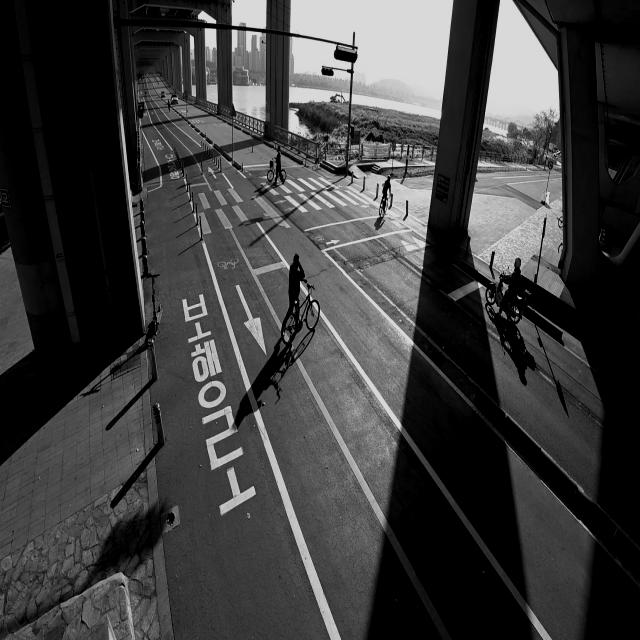Car: (171, 90, 179, 108), (157, 87, 166, 98)
Motorcycle: (486, 253, 534, 329)
